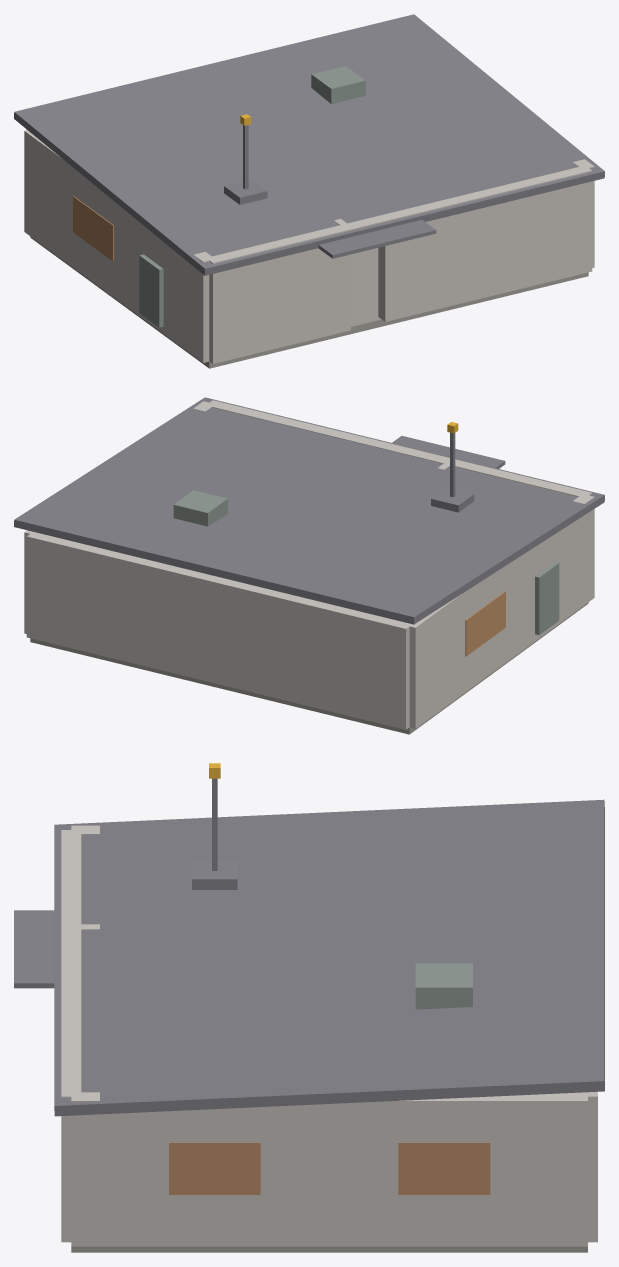
Rendered from relay_operations.glb.
3 renders of one model, top to bottom at view 1: azimuth 30°, elevation 25°; view 2: azimuth 150°, elevation 25°; view 3: azimuth 270°, elevation 25°, orthographic. The views are drawn at different scales.
Visible parts, largest first — view 1: Roof, Wall_S_Right_wall_fade, Wall_W, Wall_S_Left_wall_fade, Floor, Canopy, Power_Cabinet, Window_W, Roof_Vent, Antenna_Base; view 2: Roof, Wall_N, Wall_W, Floor, Wall_S_Right_wall_fade, Power_Cabinet, Window_W, Roof_Vent, Wall_S_Left_wall_fade, Canopy, Antenna_Base, Wall_E; view 3: Roof, Wall_E, Window_E1, Window_E2, Wall_S_Right_wall_fade, Floor, Canopy, Roof_Vent, Wall_S_Left_wall_fade, Wall_N, Antenna_Base.
Boxes of the visible parts, x1,y1,x2,y2 form: Roof: (14,14,604,275); Wall_S_Right_wall_fade: (378,165,592,321); Wall_W: (24,130,214,362); Wall_S_Left_wall_fade: (209,225,350,363); Floor: (30,236,588,368); Canopy: (318,220,436,258); Power_Cabinet: (139,254,163,327); Window_W: (73,196,113,261); Roof_Vent: (311,66,365,103); Antenna_Base: (224,179,267,204); Roof: (14,397,604,624); Wall_N: (26,531,411,729); Wall_W: (404,494,594,728); Floor: (30,602,588,734); Wall_S_Right_wall_fade: (207,400,419,456); Power_Cabinet: (535,562,559,635); Window_W: (465,591,505,656); Roof_Vent: (173,490,227,526); Wall_S_Left_wall_fade: (449,459,592,496); Canopy: (392,436,505,468); Antenna_Base: (431,487,474,512); Wall_E: (24,401,214,633); Roof: (54,799,604,1116); Wall_E: (71,1092,587,1246); Window_E1: (398,1142,490,1194); Window_E2: (169,1142,260,1194); Wall_S_Right_wall_fade: (61,951,81,1242); Floor: (71,1246,587,1252); Canopy: (14,910,54,988); Roof_Vent: (415,963,472,1009); Wall_S_Left_wall_fade: (61,830,81,926); Wall_N: (577,1091,597,1242); Antenna_Base: (192,860,237,889).
Size of the model in its own units: 11.6 by 5.4 by 10.3.
